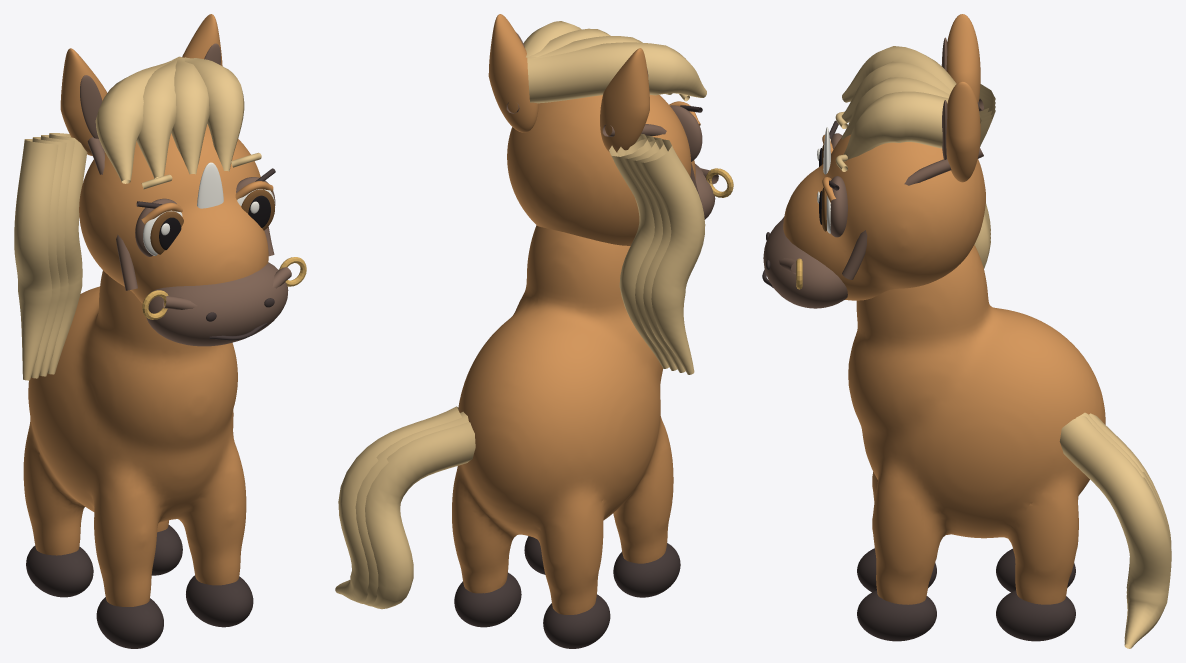
The model's file is phoebe.glb.
3 views of the same model, side by side, from view 1: azimuth 30°, elevation 25°; view 2: azimuth 150°, elevation 25°; view 3: azimuth 270°, elevation 25° (orthographic).
Parts seen in each view (by area): view 1: Sculpted body and legs, Sculpted equine face, Layered mane lock.003, Velvet soft muzzle, Broad swept forelock, Broad swept forelock.003, Layered mane lock, Broad swept forelock.001, Broad swept forelock.002, Soft square hoof.001, Soft square hoof.002, Soft square hoof (+15 smaller); view 2: Sculpted body and legs, Sculpted equine face, Full curled tail, Layered mane lock.003, Broad swept forelock, Full curled tail.002, Leaf shaped ear.001, Leaf shaped ear, Layered mane lock, Soft square hoof, Soft square hoof.003, Soft square hoof.001 (+8 smaller); view 3: Sculpted body and legs, Sculpted equine face, Full curled tail.002, Broad swept forelock.003, Velvet soft muzzle, Leaf shaped ear.001, Soft square hoof.002, Soft square hoof.003, Leaf shaped ear, Broad swept forelock, Broad swept forelock.001, Broad swept forelock.002 (+7 smaller).
Boxes of the visible parts, x1,y1,x2,y2 form: Sculpted body and legs: (23, 270, 246, 606); Sculpted equine face: (79, 124, 268, 303); Layered mane lock.003: (14, 139, 58, 380); Velvet soft muzzle: (146, 262, 288, 346); Broad swept forelock: (95, 56, 184, 183); Broad swept forelock.003: (184, 57, 244, 171); Layered mane lock: (47, 133, 87, 374); Broad swept forelock.001: (137, 58, 183, 178); Broad swept forelock.002: (171, 58, 209, 174); Soft square hoof.001: (26, 545, 93, 597); Soft square hoof.002: (186, 575, 253, 627); Soft square hoof: (96, 597, 163, 648); Sculpted body and legs: (452, 225, 673, 614); Sculpted equine face: (507, 95, 695, 245); Full curled tail: (365, 422, 475, 609); Layered mane lock.003: (638, 139, 705, 374); Broad swept forelock: (527, 42, 706, 103); Full curled tail.002: (335, 406, 461, 604); Leaf shaped ear.001: (488, 14, 538, 132); Leaf shaped ear: (600, 48, 649, 152); Layered mane lock: (609, 133, 668, 368); Soft square hoof: (613, 543, 680, 597); Soft square hoof.003: (454, 572, 521, 627); Soft square hoof.001: (543, 594, 610, 648); Sculpted body and legs: (848, 245, 1105, 604); Sculpted equine face: (783, 134, 985, 300); Full curled tail.002: (1059, 416, 1171, 648); Broad swept forelock.003: (843, 91, 948, 159); Velvet soft muzzle: (763, 218, 847, 308); Leaf shaped ear.001: (946, 81, 980, 182); Soft square hoof.002: (857, 590, 936, 641); Soft square hoof.003: (996, 590, 1075, 641); Leaf shaped ear: (946, 14, 980, 102); Broad swept forelock: (842, 46, 981, 123); Broad swept forelock.001: (842, 61, 951, 122); Broad swept forelock.002: (841, 77, 949, 139).
Bounding box in the file's own units: 1.19 × 2.35 × 1.53.
